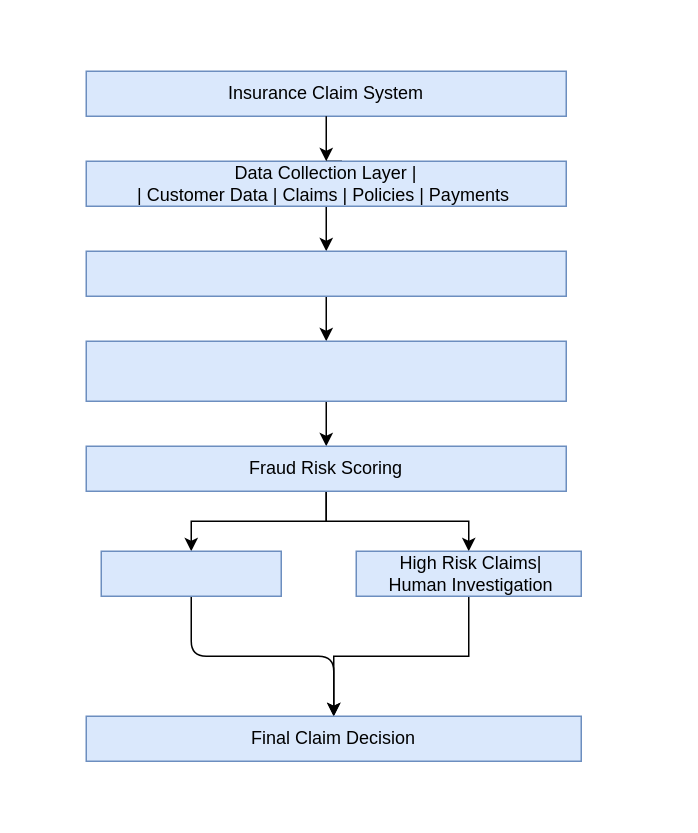
Image size: 698x833. Some labels were removed from this diagram. Here are the shapes that lost their labels. From the top down, the box of each, then its label:
(85, 250, 566, 296): Data Cleaning & Feature Engineering
(85, 340, 566, 401): Neural Network Fraud Detection | | FNN + Autoencoder Anomaly Detection
(100, 550, 281, 596): Low Risk Claim Auto Approval
